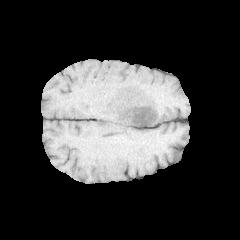glioma: (103, 84, 173, 138)
